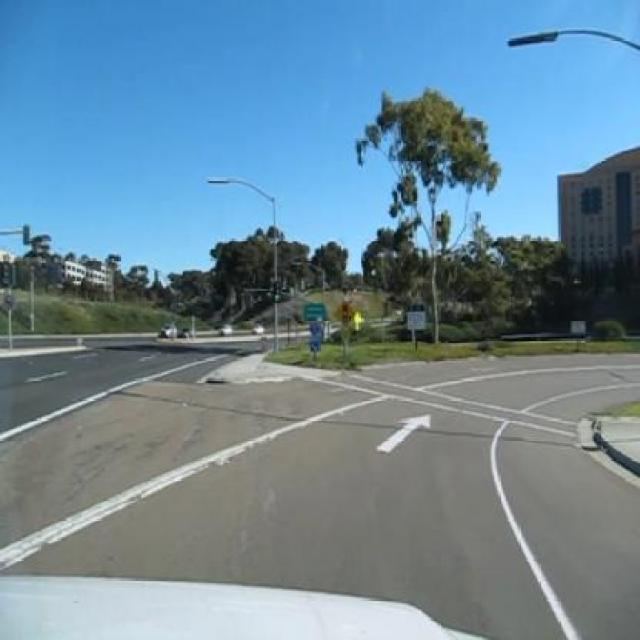signalAhead: (334, 298, 356, 328)
